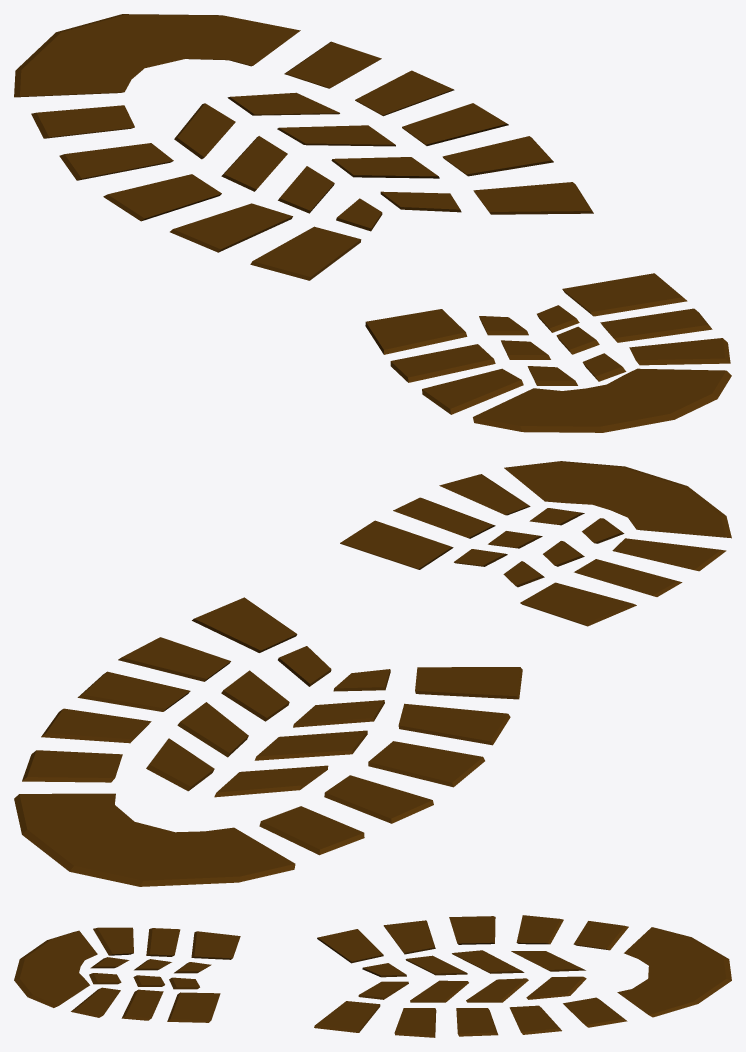
Rendered from Huella.fbx.
3 renders of one model, top to bottom at view 1: azimuth 30°, elevation 25°; view 2: azimuth 150°, elevation 25°; view 3: azimuth 270°, elevation 25°, orthographic. The views are drawn at different scales.
Visible parts, largest first — view 1: Huella; view 2: Huella; view 3: Huella.
Part boxes in pixels (x1,y1,x2,y2): Huella: [14, 14, 731, 432]; Huella: [14, 461, 731, 886]; Huella: [14, 915, 731, 1037].
Size of the model in its own units: 1.99 by 0.0138 by 4.96.
